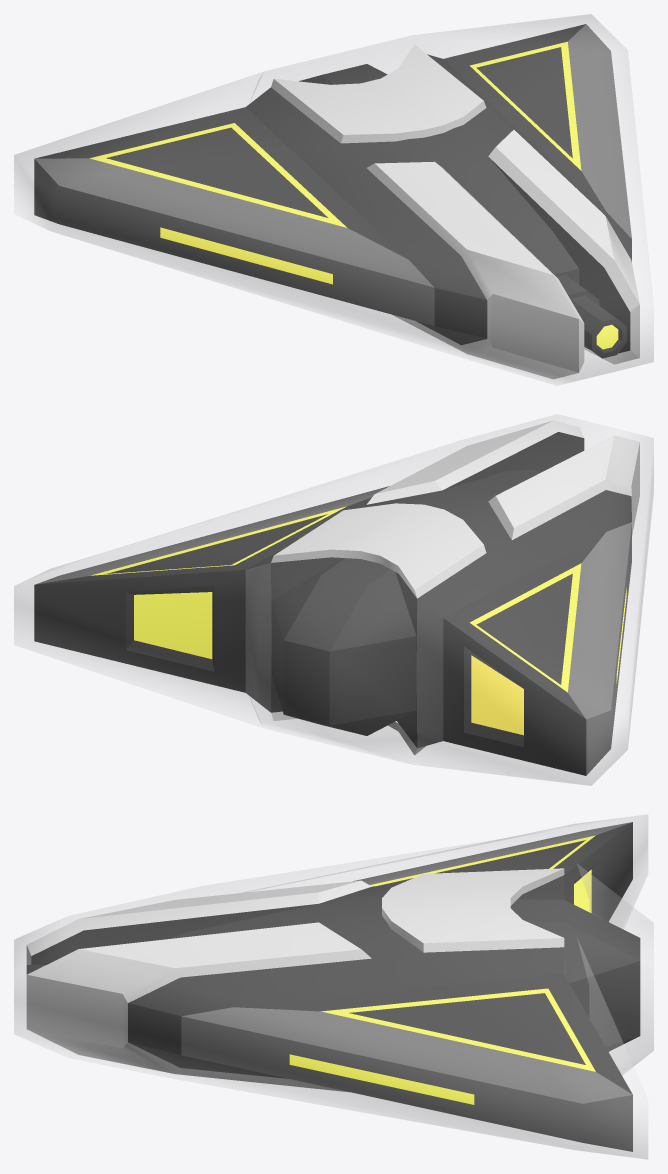
File: 01_ship_light_tolly.glb
3 renders of one model, top to bottom at view 1: azimuth 30°, elevation 25°; view 2: azimuth 150°, elevation 25°; view 3: azimuth 270°, elevation 25°, orthographic.
Parts seen in each view (by area): view 1: 01_ship_light_tolly_aegis, 01_ship_light_tolly; view 2: 01_ship_light_tolly_aegis, 01_ship_light_tolly; view 3: 01_ship_light_tolly_aegis, 01_ship_light_tolly.
Part boxes in pixels (box(x1,y1,x2,y2)): 01_ship_light_tolly_aegis: box(14, 14, 653, 385); 01_ship_light_tolly: box(34, 24, 639, 379); 01_ship_light_tolly_aegis: box(14, 414, 653, 785); 01_ship_light_tolly: box(34, 420, 639, 775); 01_ship_light_tolly_aegis: box(14, 814, 653, 1159); 01_ship_light_tolly: box(26, 822, 640, 1151).
Size of the model in its own units: 1.1 by 0.3221 by 1.04.
